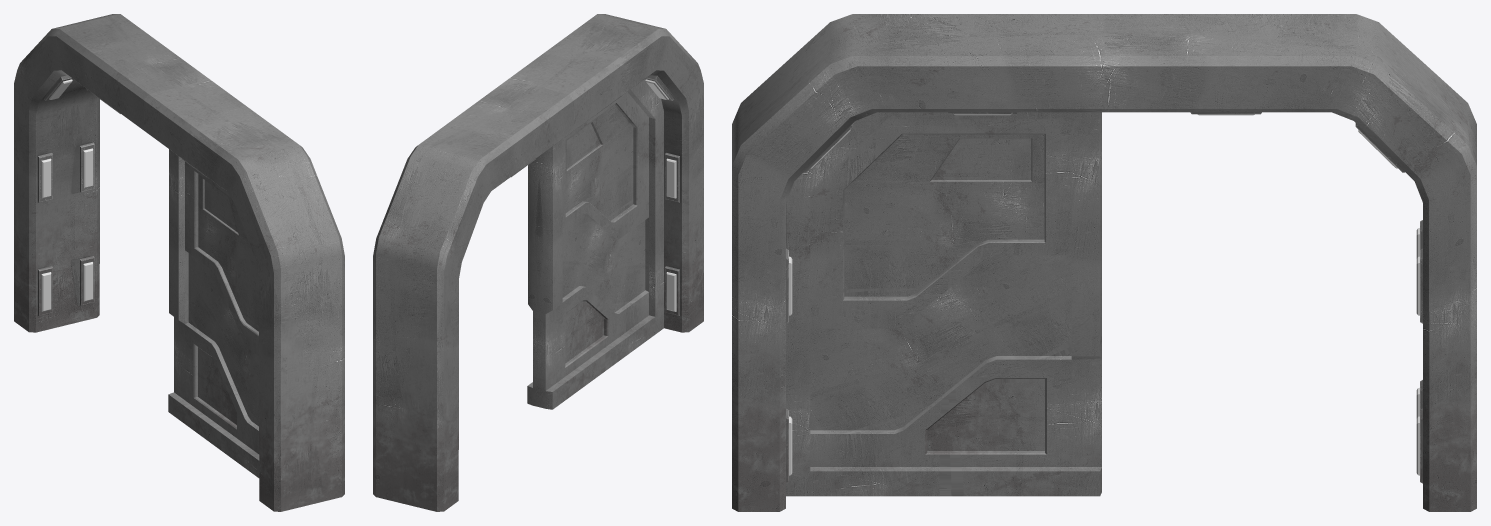
File: MetalDoorWrap.fbx
3 views of the same model, side by side, from view 1: azimuth 30°, elevation 25°; view 2: azimuth 150°, elevation 25°; view 3: azimuth 270°, elevation 25° (orthographic). The views are drawn at different scales.
Parts seen in each view (by area): view 1: MetalDoorsWrap, BigMetalDoor; view 2: MetalDoorsWrap, BigMetalDoor; view 3: BigMetalDoor, MetalDoorsWrap.
Part boxes in pixels (x1,y1,x2,y2): MetalDoorsWrap: (14, 14, 344, 511); BigMetalDoor: (168, 149, 259, 477); MetalDoorsWrap: (373, 14, 703, 511); BigMetalDoor: (527, 79, 663, 409); BigMetalDoor: (786, 112, 1101, 496); MetalDoorsWrap: (732, 14, 1476, 511).
Size of the model in its own units: 119 by 516 by 770.
